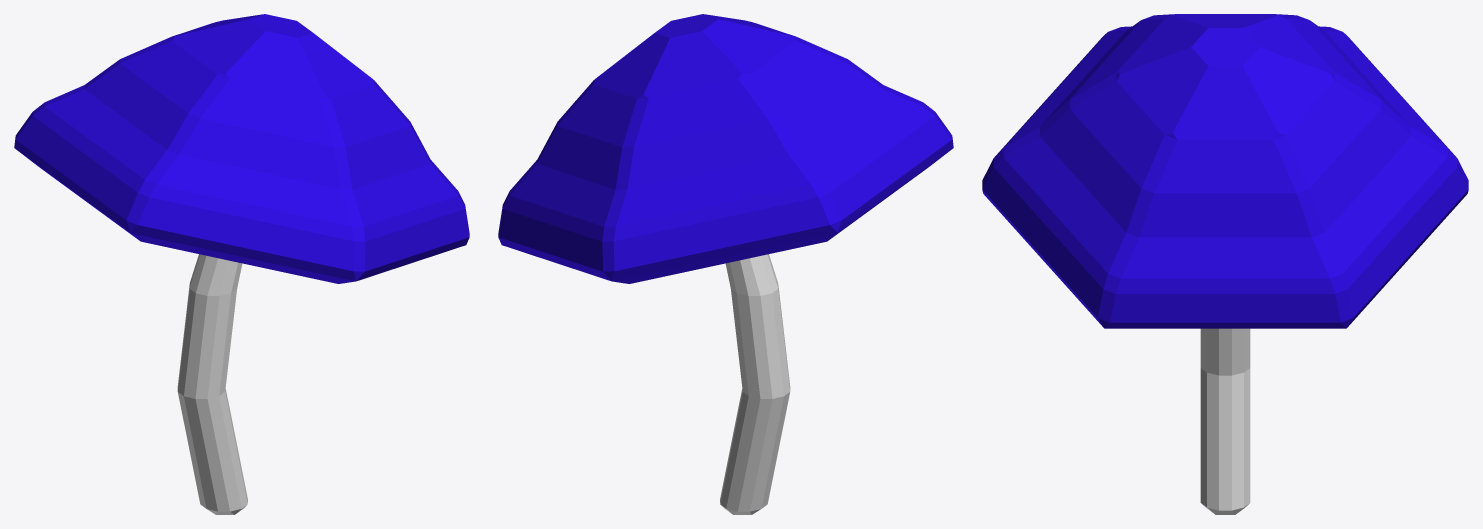
Rendered from Mushroom_04Normal.fbx.
3 renders of one model, left to right at view 1: azimuth 30°, elevation 25°; view 2: azimuth 150°, elevation 25°; view 3: azimuth 270°, elevation 25°, orthographic. The views are drawn at different scales.
Parts seen in each view (by area): view 1: Mushroom_04Normal; view 2: Mushroom_04Normal; view 3: Mushroom_04Normal.
Part boxes in pixels (box(x1,y1,x2,y2)): Mushroom_04Normal: box(14, 14, 469, 514); Mushroom_04Normal: box(498, 14, 953, 514); Mushroom_04Normal: box(982, 14, 1468, 514).
Size of the model in its own units: 144 by 190 by 169.
